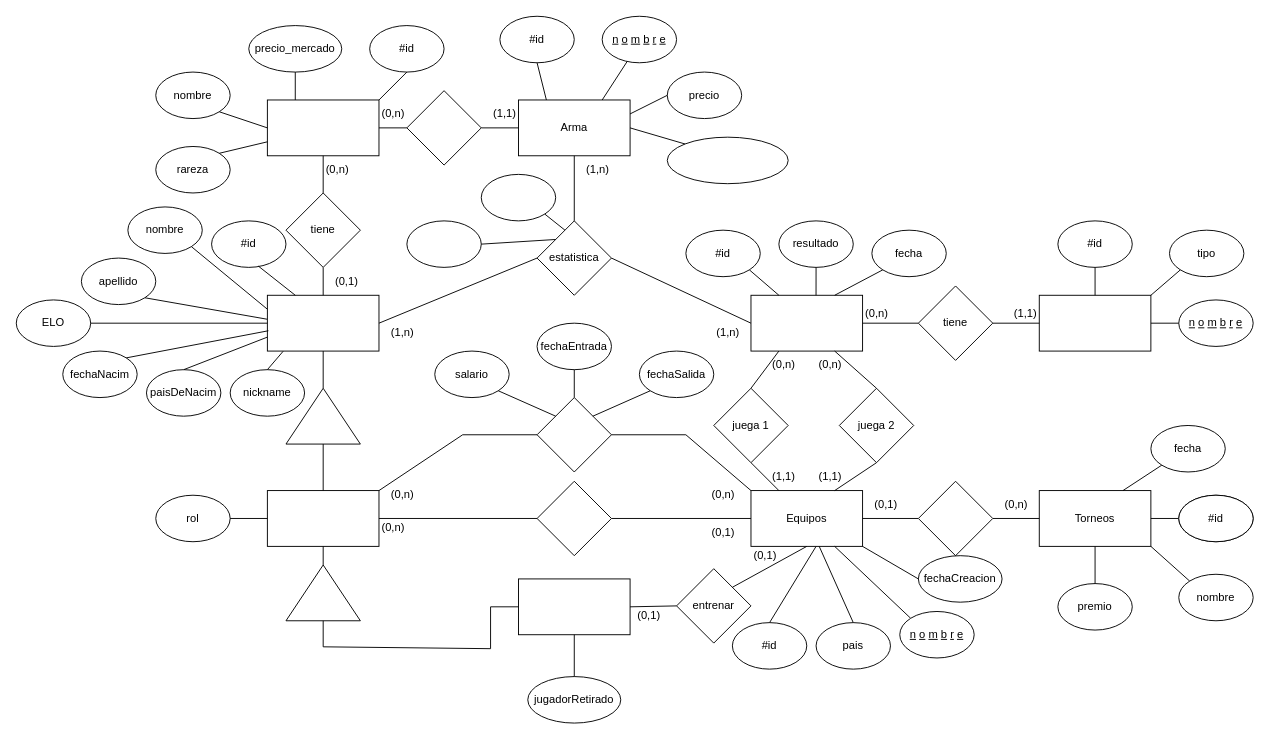
Some shapes in this 1269 by 739 pixel diagram are drawn without their labels. Here are the shapes that lost their labels. From the top down, the box of each, then its label:
(266, 99, 379, 156): Skins
(406, 90, 481, 165): pertenece
(666, 136, 788, 184): disponible_para
(480, 173, 556, 221): kills
(406, 220, 481, 267): death
(266, 294, 379, 351): Jugador
(750, 294, 863, 351): Partida
(1038, 294, 1151, 351): Mapa
(536, 397, 611, 472): historia
(266, 490, 379, 546): JugadorProfesional
(536, 480, 611, 556): pertenecer
(917, 480, 993, 556): gana
(518, 578, 630, 635): Entrenador
